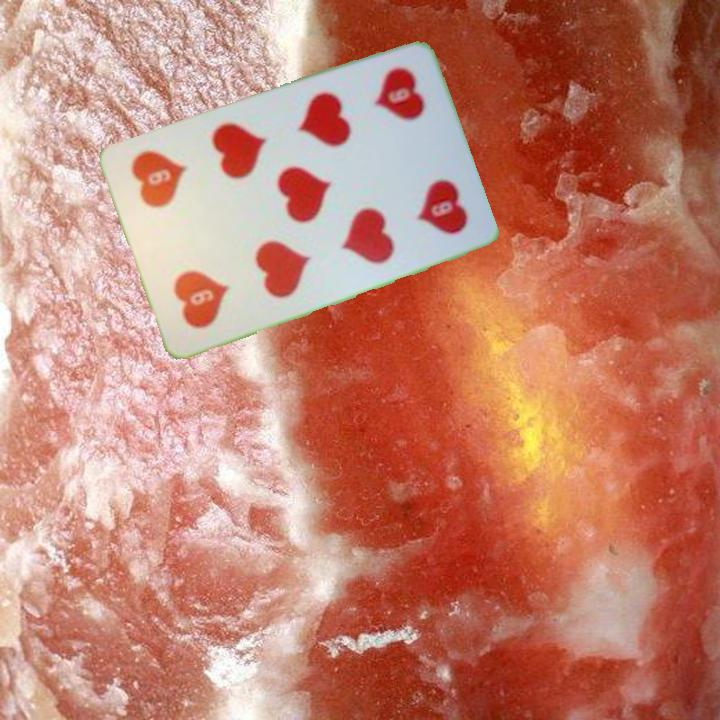h_9.png: (338, 53, 451, 175), (147, 221, 260, 342)
